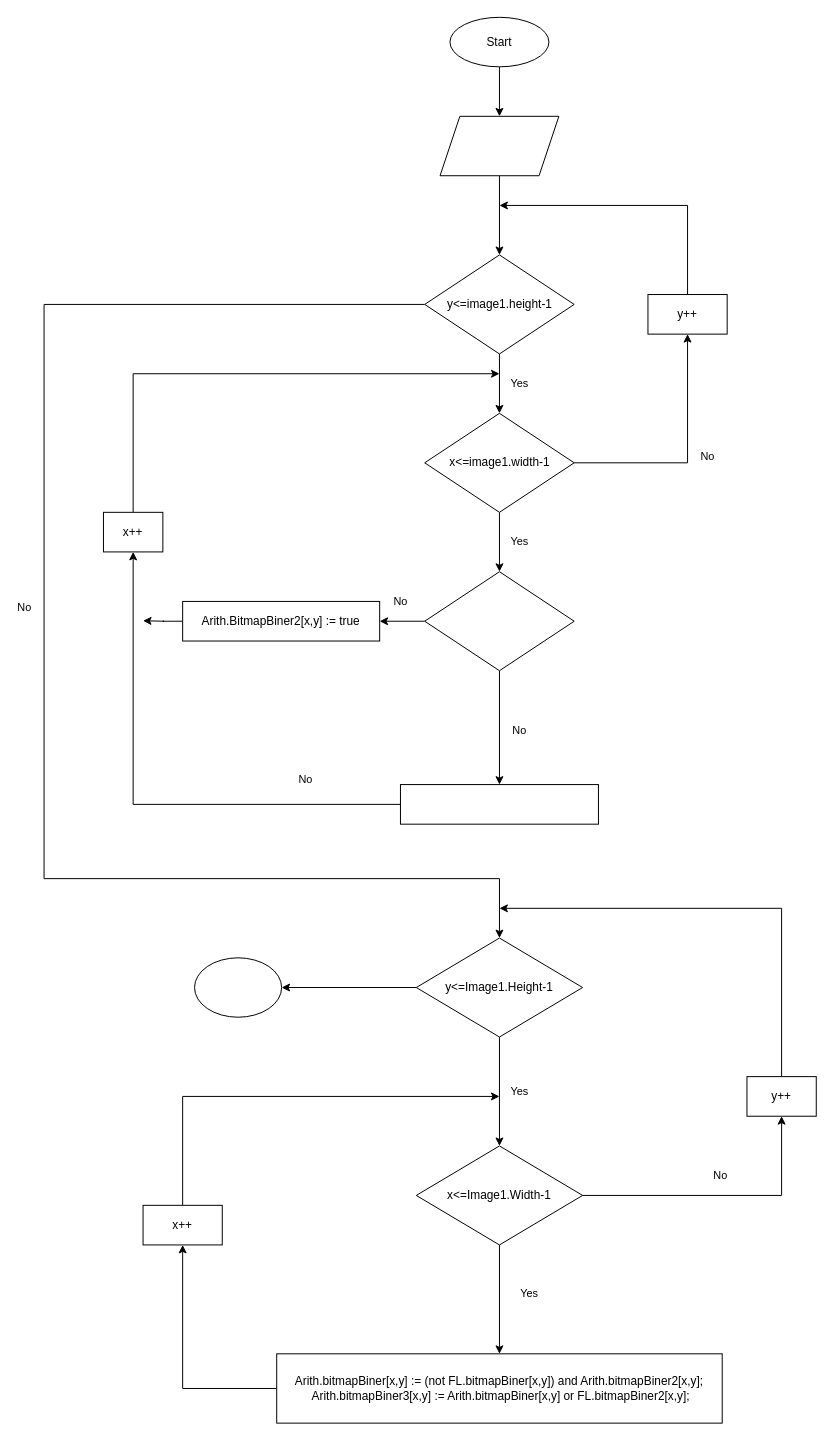
Image size: 834x1440. Some labels were removed from this diagram. Each missing label, with the centre of its shape:
Arith.BitmapBiner2[x,y] := false: (x=498, y=804)
End: (x=238, y=987)
Snow.Invers[x,y] > 127: (x=499, y=621)
x,y : integer: (x=499, y=145)
